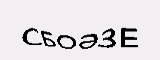Б: (40, 28, 56, 48)
Е: (119, 25, 140, 50)
З: (99, 27, 117, 50)
О: (57, 30, 77, 50)
С: (20, 27, 43, 47)
Ә: (78, 30, 98, 50)
